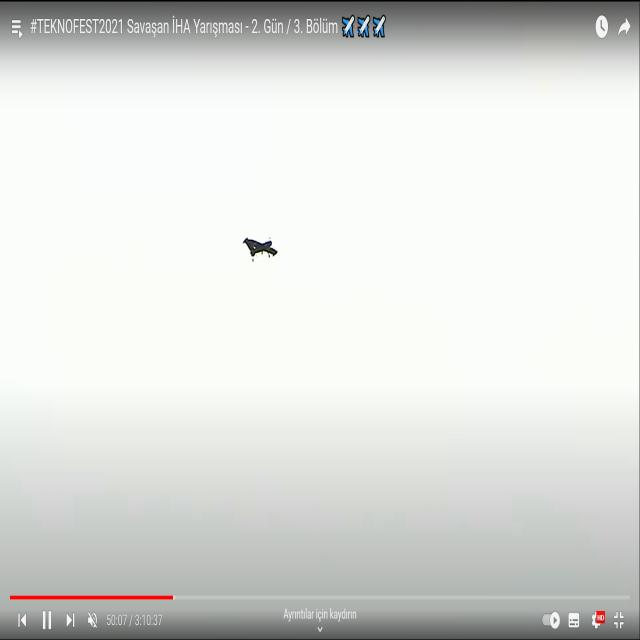iha: (243, 234, 278, 264)
